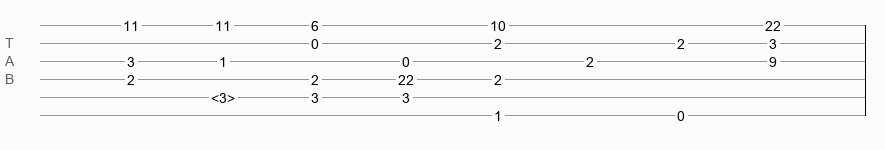0: (311, 36, 319, 46), (402, 54, 410, 64), (677, 108, 685, 118)
1: (219, 54, 227, 64), (494, 108, 502, 118)
10: (490, 18, 506, 28)
11: (123, 18, 139, 28), (215, 18, 231, 28)
2: (127, 72, 135, 82), (311, 72, 319, 82), (494, 72, 502, 82), (494, 36, 502, 46), (586, 54, 594, 64), (677, 36, 685, 46)
22: (398, 72, 414, 82), (765, 18, 781, 28)
3: (127, 54, 135, 64), (311, 90, 319, 100), (402, 90, 410, 100), (769, 36, 777, 46)
6: (311, 18, 319, 28)
9: (769, 54, 777, 64)
harmonic: (211, 90, 235, 100)
